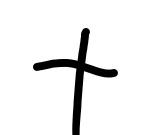plus: (30, 25, 120, 135)
